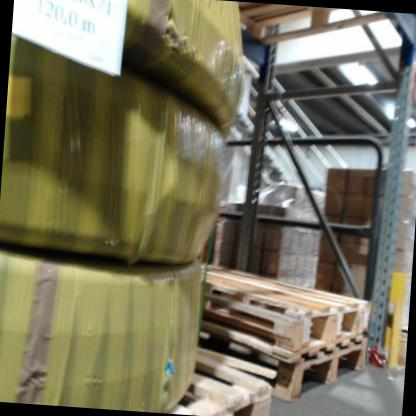pallet: (182, 264, 372, 356), (185, 311, 369, 406), (144, 349, 276, 416), (235, 3, 384, 54)
